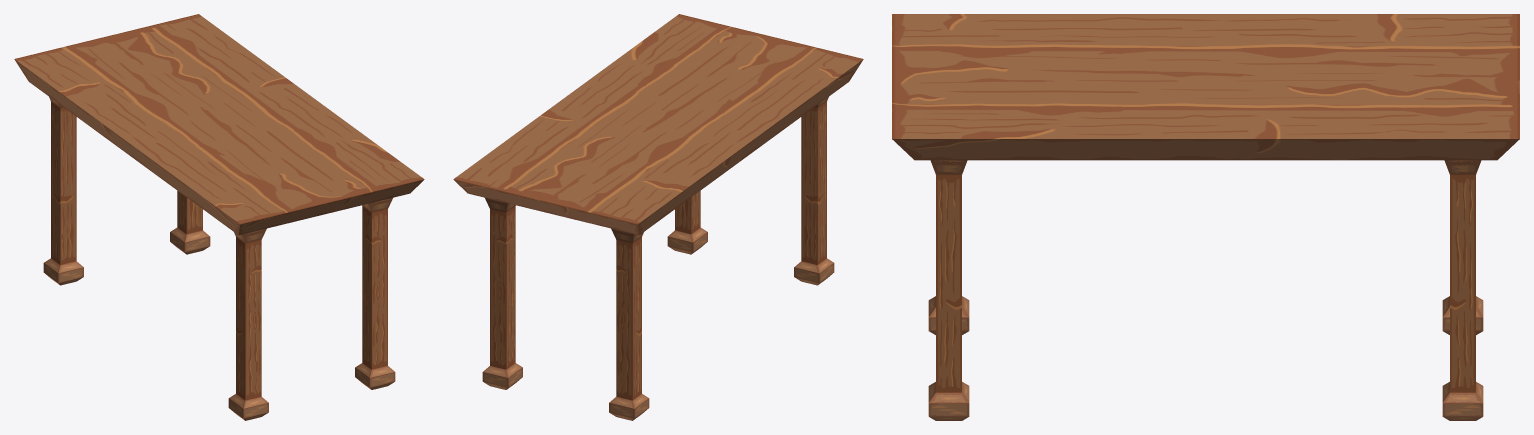
File: Table.fbx
The picture shows the model from 3 angles, left to right: view 1: azimuth 30°, elevation 25°; view 2: azimuth 150°, elevation 25°; view 3: azimuth 270°, elevation 25°; orthographic projection. The views are drawn at different scales.
Visible parts, largest first — view 1: Table; view 2: Table; view 3: Table.
Boxes of the visible parts, <box> form: Table: <box>14,14,424,420</box>; Table: <box>453,14,863,420</box>; Table: <box>892,14,1519,420</box>.
Size of the model in its own units: 60.53 by 66.77 by 128.
Materials: 1 (1 with a texture image).
